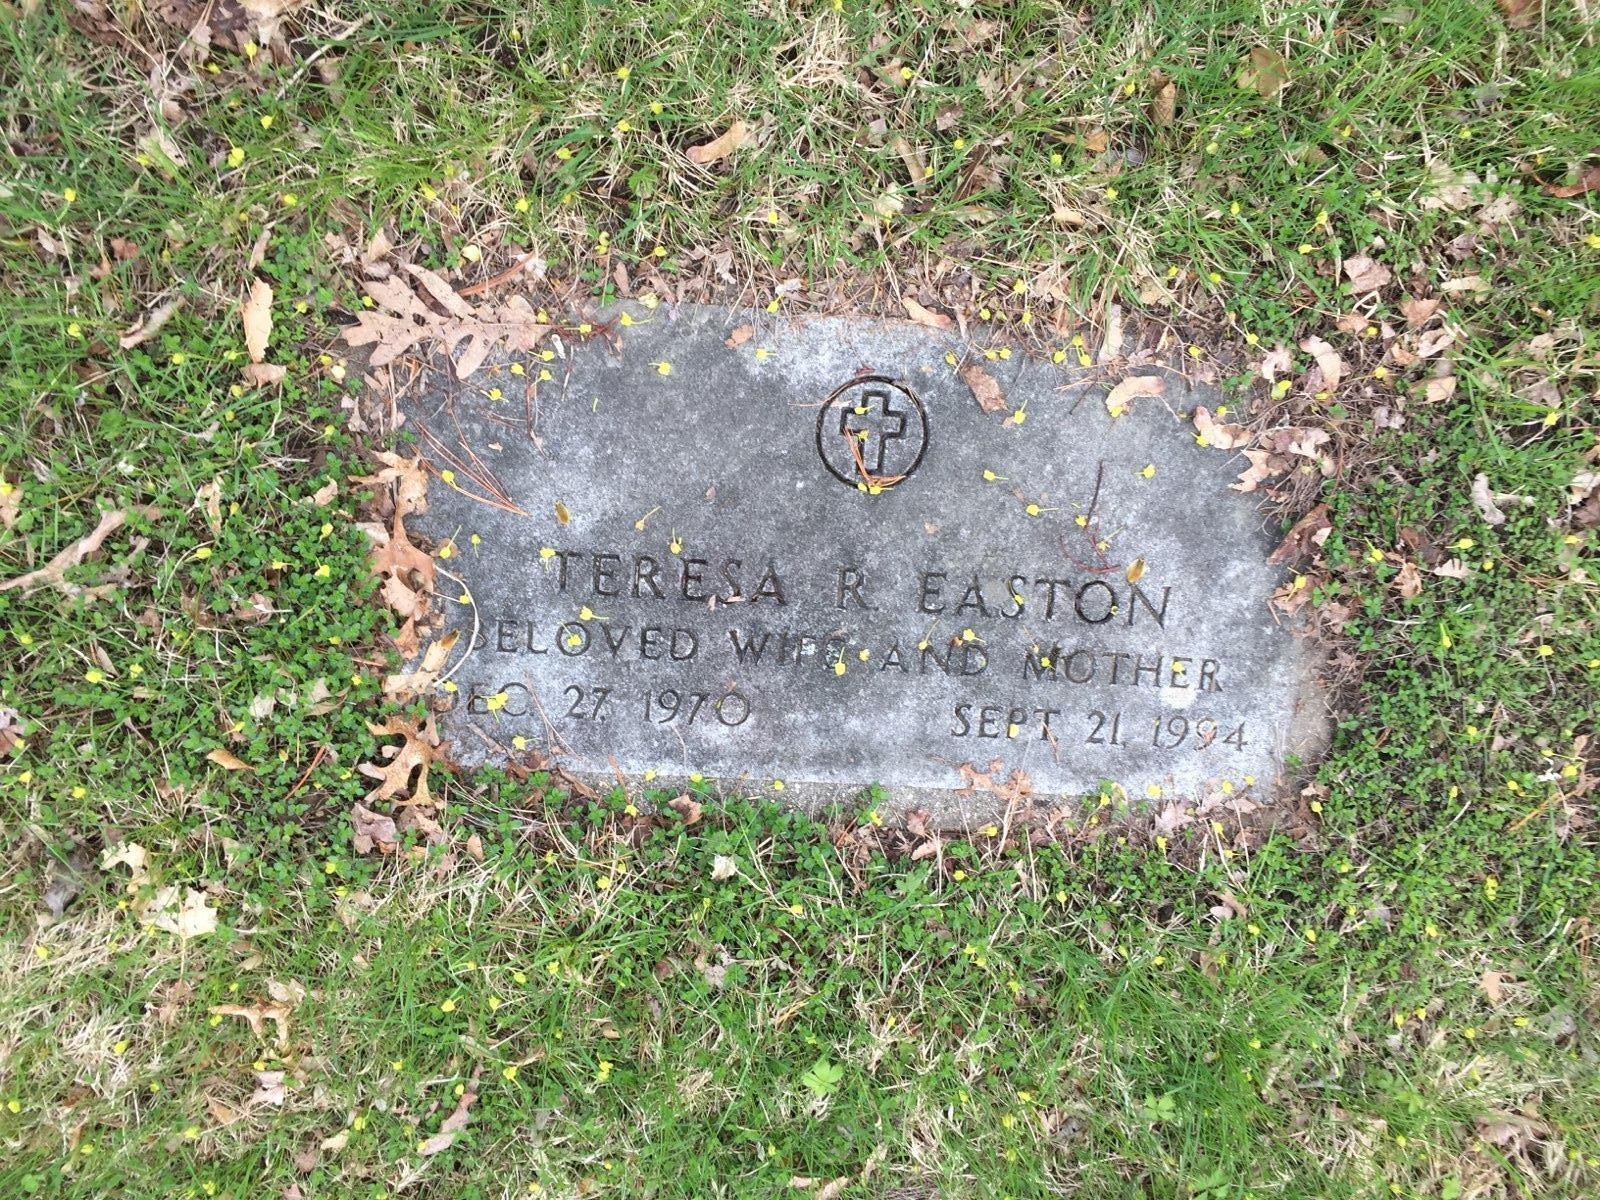flat: (398, 304, 1311, 816)
